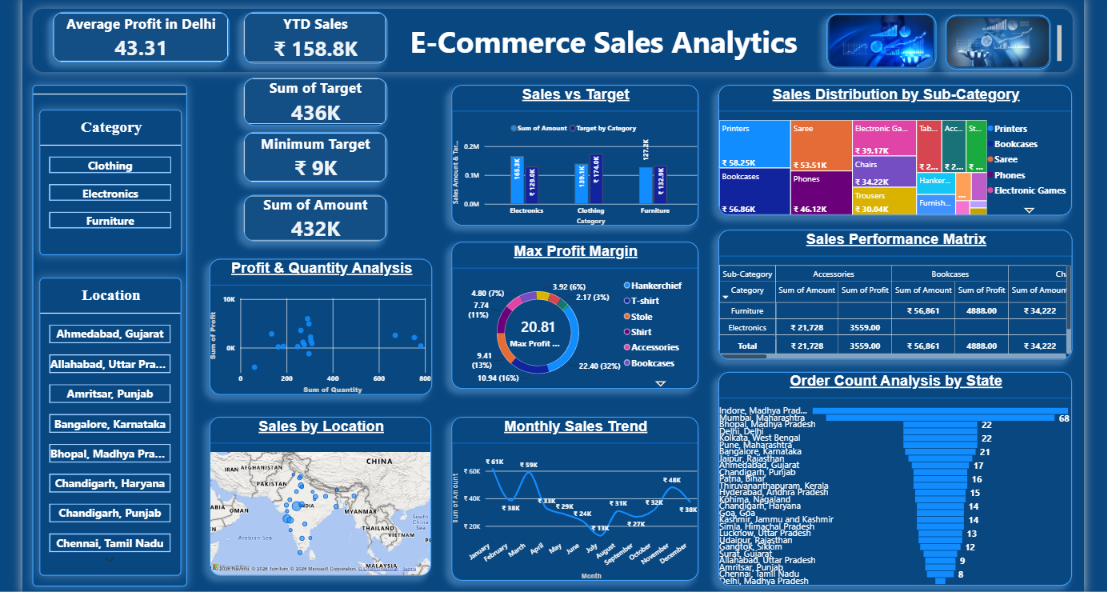

The page's visual inventory and layout, read from the dashboard file:
{"tool":"powerbi","page":{"name":"Assignment 2 – DAX Calculations","canvas":[1920,1080],"ordinal":1},"visuals":[{"type":"textbox","box":[18.1,21.7,1882,114],"z":0},{"type":"cardVisual","fields":{"Data":["Order Details.Average Profit in Delhi"]},"box":[53.5,26.8,320.3,92.3],"z":1000},{"type":"image","box":[1670.3,32.6,190,99.5],"z":2000},{"type":"image","box":[1455,30.8,199.1,99.5],"z":3000},{"type":"cardVisual","fields":{"Data":["Order Details.YTD Sales"]},"box":[399.9,27.1,260.6,94.1],"z":4000},{"type":"clusteredColumnChart","title":"Sales vs Target","fields":{"Category":["Category Lookup.Category"],"Y":["Sum(Order Details.Amount)","Category Lookup.Target by Category"]},"box":[776.3,159.3,447,255.2],"z":5000},{"type":"donutChart","title":"Max Profit Margin","fields":{"Category":["Order Details.Sub-Category"],"Y":["Sum(Order Details.Profit Margin)"]},"box":[776.3,443.4,447,266],"z":6000},{"type":"lineChart","title":"Monthly Sales Trend","fields":{"Category":["List of Orders.Order Date.Variation.Date Hierarchy.Month"],"Y":["Sum(Orders Data.Amount)"]},"box":[776.3,760.1,447,296.8],"z":7000},{"type":"scatterChart","title":"Profit & Quantity Analysis","fields":{"Category":["Orders Data.Sub-Category"],"X":["Sum(Orders Data.Quantity)"],"Y":["Sum(Orders Data.Profit)"]},"box":[338.4,474.1,403.6,246.1],"z":8000},{"type":"pivotTable","title":"Sales Performance Matrix","fields":{"Columns":["Orders Data.Sub-Category"],"Rows":["Orders Data.Category"],"Values":["Sum(Orders Data.Amount)","Sum(Orders Data.Profit)"]},"box":[1259.5,421.7,640.6,235.3],"z":9000},{"type":"treemap","title":"Sales Distribution by Sub-Category ","fields":{"Group":["Orders Data.Sub-Category"],"Values":["Sum(Orders Data.Amount)"]},"box":[1259.7,158.5,640.1,236.7],"z":10000},{"type":"funnel","title":"Order Count Analysis by State","fields":{"Category":["List of Orders.Location"],"Y":["CountNonNull(List of Orders.Order ID)"]},"box":[1259.7,679.2,640.1,387],"z":11000},{"type":"map","title":"Sales by Location","fields":{"Category":["List of Orders.Location"],"Size":["Sum(Order Details.Amount)"]},"box":[338.4,760.1,401.7,287.7],"z":12000},{"type":"cardVisual","title":"Total Target","fields":{"Data":["Sum(Sales target.Target)"]},"box":[399.9,146.6,260.6,86.9],"z":13000},{"type":"cardVisual","fields":{"Data":["Sales target.Minimum Target"]},"box":[399.9,244.3,260.6,92.3],"z":14000},{"type":"textbox","box":[18.5,158.5,279.9,907.7],"z":15000},{"type":"listSlicer","fields":{"Values":["List of Orders.Location"]},"box":[30.8,508.5,257,539.3],"z":16000},{"type":"listSlicer","fields":{"Values":["Category Lookup.Category"]},"box":[30.8,204.5,257.3,263.5],"z":17000},{"type":"cardVisual","fields":{"Data":["Sum(Order Details.Amount)"]},"box":[399.9,358.3,260.6,85.1],"z":18000}]}

Visuals, with their boxes on the page's 1920x1080 design canvas (x1, y1, x2, y2). These are canvas units, not pixel positions in the 1107x592 screenshot, which may show the page scaled, cropped or inside an application window:
textbox: box(18, 22, 1900, 136)
cardVisual - Order Details.Average Profit in Delhi: box(54, 27, 374, 119)
image: box(1670, 33, 1860, 132)
image: box(1455, 31, 1654, 130)
cardVisual - Order Details.YTD Sales: box(400, 27, 660, 121)
"Sales vs Target" clusteredColumnChart: box(776, 159, 1223, 414)
"Max Profit Margin" donutChart: box(776, 443, 1223, 709)
"Monthly Sales Trend" lineChart: box(776, 760, 1223, 1057)
"Profit & Quantity Analysis" scatterChart: box(338, 474, 742, 720)
"Sales Performance Matrix" pivotTable: box(1260, 422, 1900, 657)
"Sales Distribution by Sub-Category " treemap: box(1260, 158, 1900, 395)
"Order Count Analysis by State" funnel: box(1260, 679, 1900, 1066)
"Sales by Location" map: box(338, 760, 740, 1048)
"Total Target" cardVisual: box(400, 147, 660, 234)
cardVisual - Sales target.Minimum Target: box(400, 244, 660, 337)
textbox: box(18, 158, 298, 1066)
listSlicer - List of Orders.Location: box(31, 508, 288, 1048)
listSlicer - Category Lookup.Category: box(31, 204, 288, 468)
cardVisual - Sum(Order Details.Amount): box(400, 358, 660, 443)
